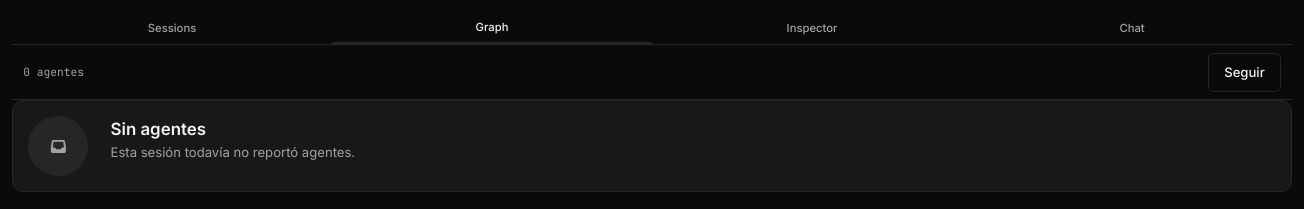
U5↔U4/U3 — el tablist de secciones en móvil (§1/§2, FR-013) › en móvil sin nodo inspeccionable el detalle muestra el prompt y ningún tablist de secciones
The image size is (1304, 209).
Expected: the heading "Sin agentes" is shown, [110, 116, 206, 142]
Click the tab "inspector": [812, 28] box [652, 12, 972, 44]
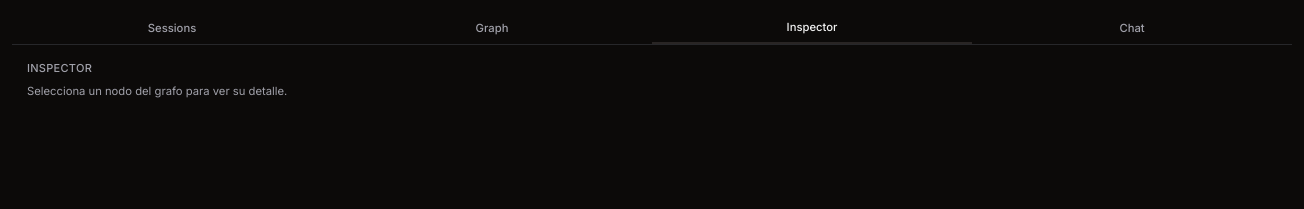
Expected: the element named "Vistas del workspace" is shown, [12, 12, 1292, 45]
Now the text "Selecciona un nodo del grafo para ver su detalle." is shown, box [27, 84, 287, 98]
